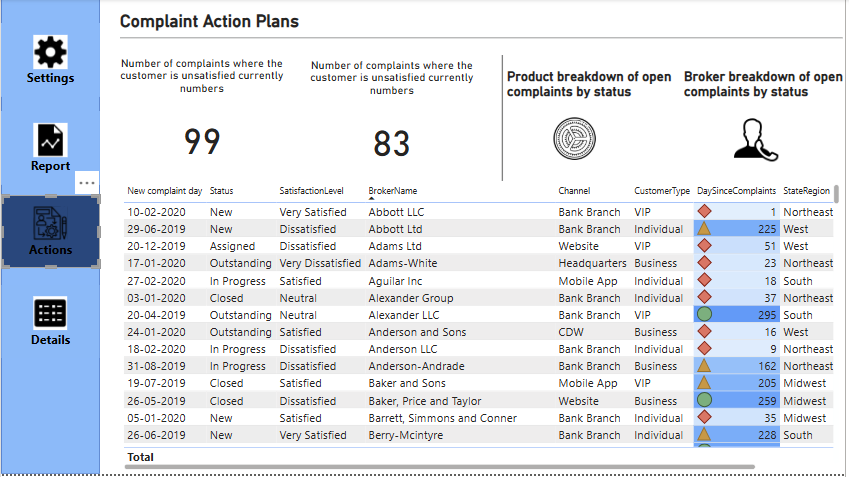

Layout of this report page (visuals, bound fields, positions):
{"tool":"powerbi","page":{"name":"Actions","canvas":[1280,720],"ordinal":1},"visuals":[{"type":"shape","box":[0,0,150.1,720.4],"z":0},{"type":"shape","title":"Complaint Action Plans","box":[180.5,18.2,335.2,34.9],"z":1000},{"type":"shape","box":[179.9,53,1096.3,11.4],"z":2000},{"type":"card","title":"Number of complaints where the customer is unsatisfied currently numbers","fields":{"Values":["Sheet1.Unsatisfied Complaints"]},"box":[448.8,89,287.8,187.5],"z":3000},{"type":"shape","box":[753.6,85.2,13.3,191.2],"z":4000},{"type":"shape","title":"Product breakdown of open complaints by status","box":[766.9,104.1,284,51.1],"z":5000},{"type":"shape","title":"Broker breakdown of open complaints by status","box":[1035.7,104.1,244.3,51.1],"z":6000},{"type":"tableEx","fields":{"Values":["Sheet1.New complaint day","Sheet1.Status","Sheet1.SatisfactionLevel","Sheet1.BrokerName","Sheet1.Channel","Sheet1.CustomerType","Sheet1.DaySinceComplaints","Sheet1.StateRegion","Sheet1.Completion status"]},"box":[179.9,276.4,1096.3,443.1],"z":7000},{"type":"card","title":"Number of complaints where the customer is unsatisfied currently numbers","fields":{"Values":["Sheet1.Complaints Over 150 days"]},"box":[160.9,87.1,287.8,187.5],"z":8000},{"type":"image","box":[817.4,162.3,104.6,98.6],"z":13000},{"type":"image","box":[1091.9,171.4,104.6,80.4],"z":14000},{"type":"actionButton","box":[0,36.4,150.1,112.2],"z":14001},{"type":"actionButton","box":[0,433.7,150.1,110.7],"z":14002},{"type":"actionButton","box":[0,297.3,150.1,110.7],"z":14003},{"type":"actionButton","box":[0,169.9,150.1,112.2],"z":14004}]}

Visuals, with their boxes on the page's 1280x720 design canvas (x1, y1, x2, y2). These are canvas units, not pixel positions in the 849x477 screenshot, which may show the page scaled, cropped or inside an application window:
shape: region(0, 0, 150, 720)
"Complaint Action Plans" shape: region(180, 18, 516, 53)
shape: region(180, 53, 1276, 64)
"Number of complaints where the customer is unsatisfied currently numbers" card: region(449, 89, 737, 276)
shape: region(754, 85, 767, 276)
"Product breakdown of open complaints by status" shape: region(767, 104, 1051, 155)
"Broker breakdown of open complaints by status" shape: region(1036, 104, 1280, 155)
tableEx - Sheet1.New complaint day x Sheet1.Status: region(180, 276, 1276, 720)
"Number of complaints where the customer is unsatisfied currently numbers" card: region(161, 87, 449, 275)
image: region(817, 162, 922, 261)
image: region(1092, 171, 1196, 252)
actionButton: region(0, 36, 150, 149)
actionButton: region(0, 434, 150, 544)
actionButton: region(0, 297, 150, 408)
actionButton: region(0, 170, 150, 282)
